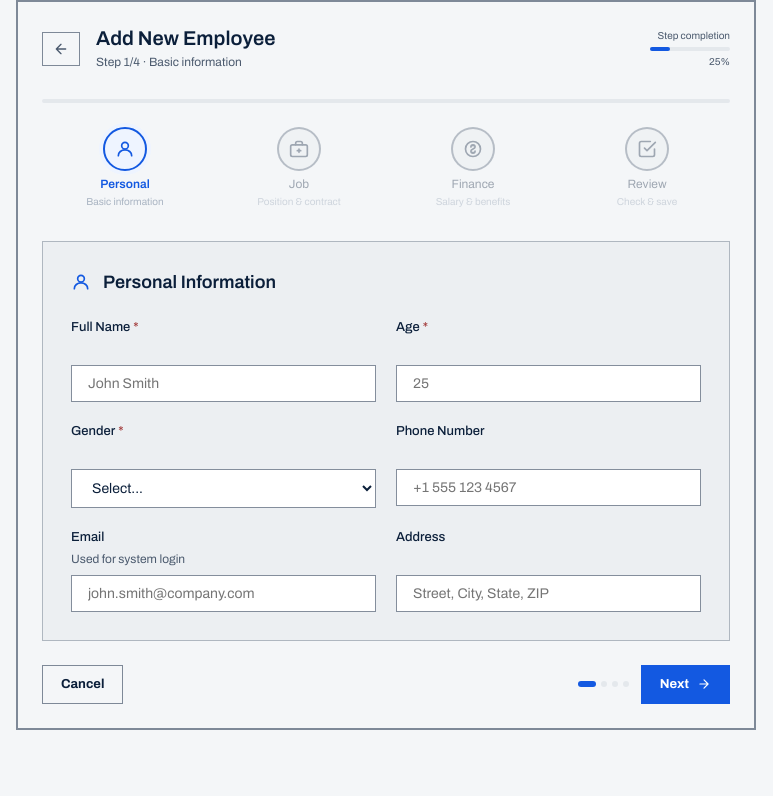
Test: AddEmployee — step 1 validation gates advancement › surfaces the required-field error instead of advancing
What coordinates should you click on to do the following:
click the button "Next"
I would click on:
 (685, 684)
Its box is [641, 665, 730, 704].
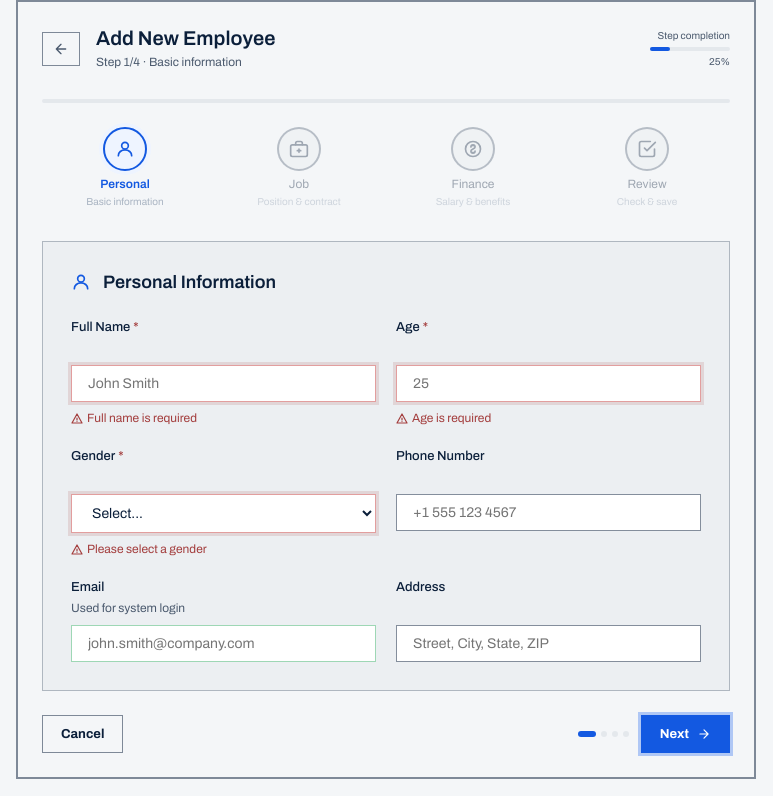
Result: the text "Full name is required" is shown at [71, 411, 197, 425]
